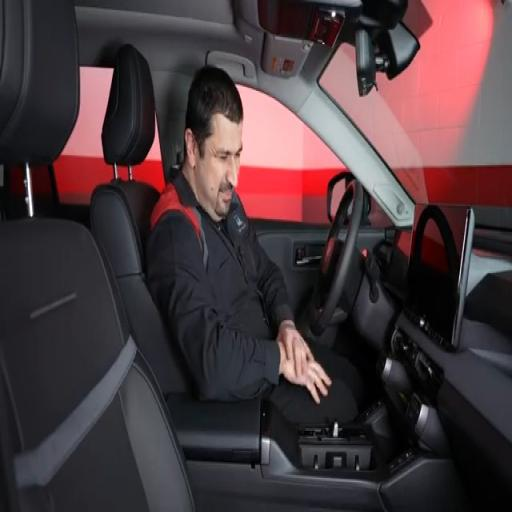side_mirror: (327, 171, 354, 223), (327, 171, 353, 223)
window: (238, 86, 344, 224)
windshield: (320, 0, 511, 206)
